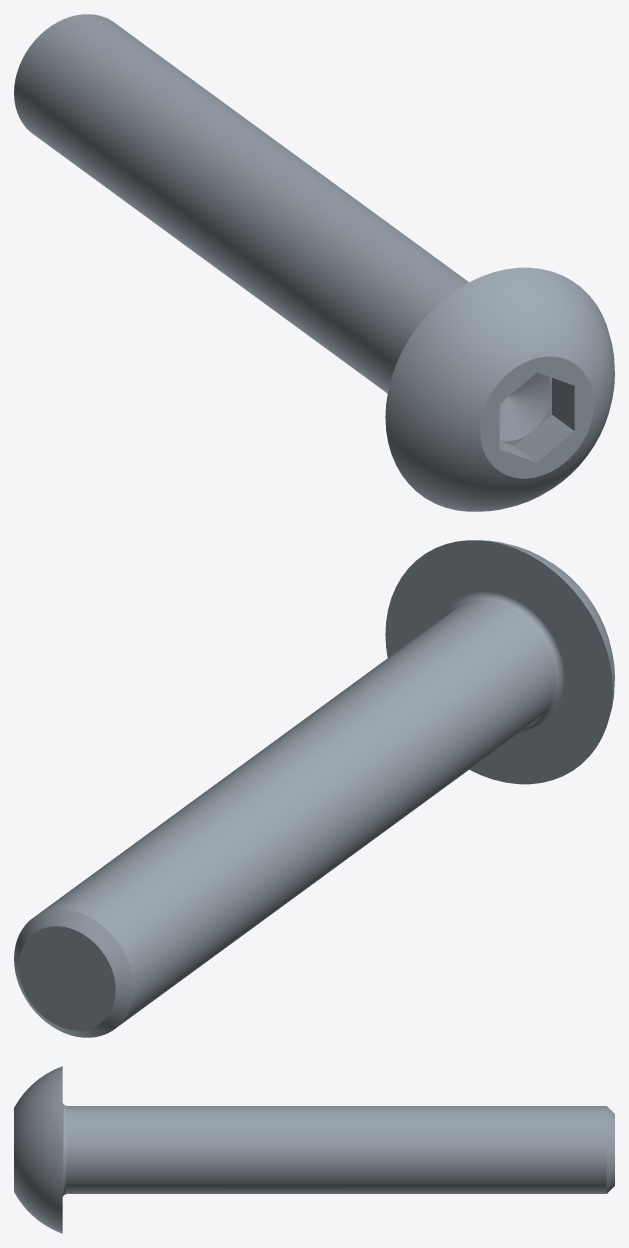
The model's file is Socket_button_head_screw_M4x0_7_x_25.obj.
3 views of the same model, one above another, from view 1: azimuth 30°, elevation 25°; view 2: azimuth 150°, elevation 25°; view 3: azimuth 270°, elevation 25° (orthographic). The views are drawn at different scales.
Visible parts, largest first — view 1: mesh2, mesh5, mesh6, mesh14, mesh11, mesh12; view 2: mesh2, mesh4, mesh0, mesh1, mesh3, mesh5; view 3: mesh2, mesh5, mesh1, mesh3.
Boxes of the visible parts, x1=… form: mesh2: x1=14, y1=14, x2=468, y2=393; mesh5: x1=385, y1=267, x2=614, y2=511; mesh6: x1=480, y1=356, x2=593, y2=478; mesh14: x1=499, y1=372, x2=551, y2=441; mesh11: x1=515, y1=415, x2=573, y2=462; mesh12: x1=552, y1=378, x2=574, y2=430; mesh2: x1=36, y1=600, x2=555, y2=1026; mesh4: x1=385, y1=540, x2=612, y2=784; mesh0: x1=18, y1=926, x2=115, y2=1030; mesh1: x1=14, y1=909, x2=133, y2=1037; mesh3: x1=438, y1=591, x2=564, y2=732; mesh5: x1=482, y1=540, x2=614, y2=713; mesh2: x1=67, y1=1106, x2=606, y2=1193; mesh5: x1=14, y1=1066, x2=62, y2=1233; mesh1: x1=606, y1=1106, x2=614, y2=1193; mesh3: x1=62, y1=1103, x2=66, y2=1196.
Bounding box in the file's own units: 0.0076 × 0.00759 × 0.0272.
